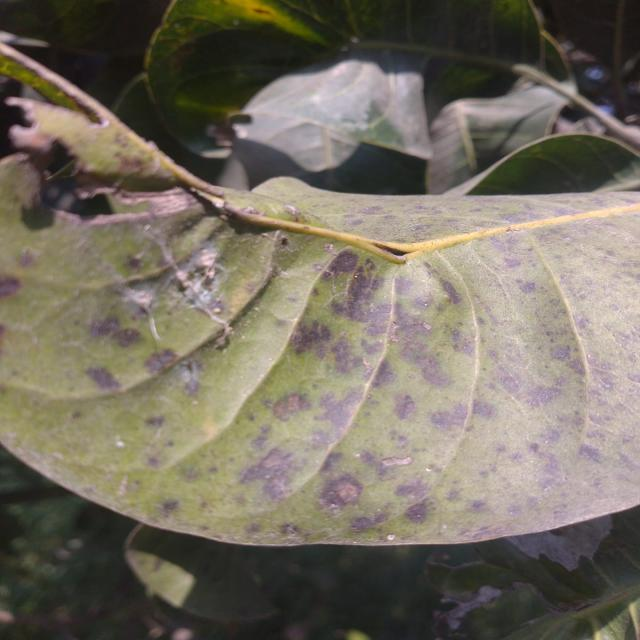Anthracnose: (306, 323, 585, 523), (96, 307, 203, 398)
